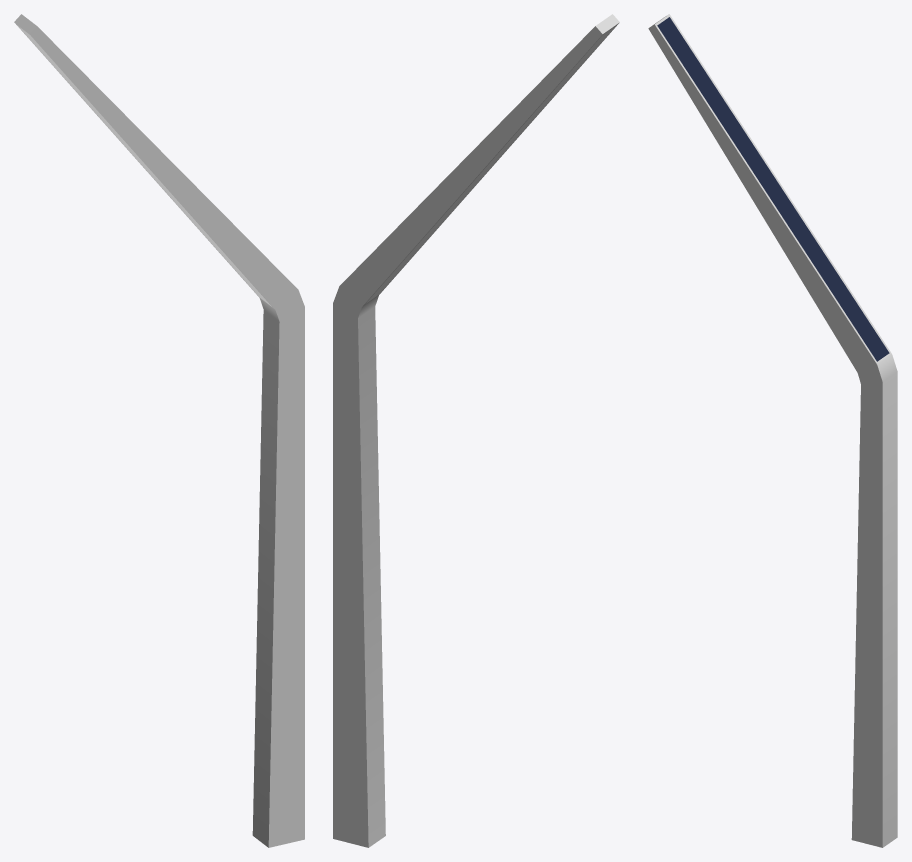
The model's file is Street Light 02.fbx.
The picture shows the model from 3 angles, left to right: view 1: azimuth 30°, elevation 25°; view 2: azimuth 150°, elevation 25°; view 3: azimuth 330°, elevation 25°; orthographic projection. The views are drawn at different scales.
Visible parts, largest first — view 1: Model; view 2: Model; view 3: Model.
Boxes of the visible parts, x1,y1,x2,y2 form: Model: [14, 14, 304, 847]; Model: [333, 14, 619, 847]; Model: [648, 14, 897, 847].
Bounding box in the file's own units: 1.14 × 3.5 × 0.1443.
